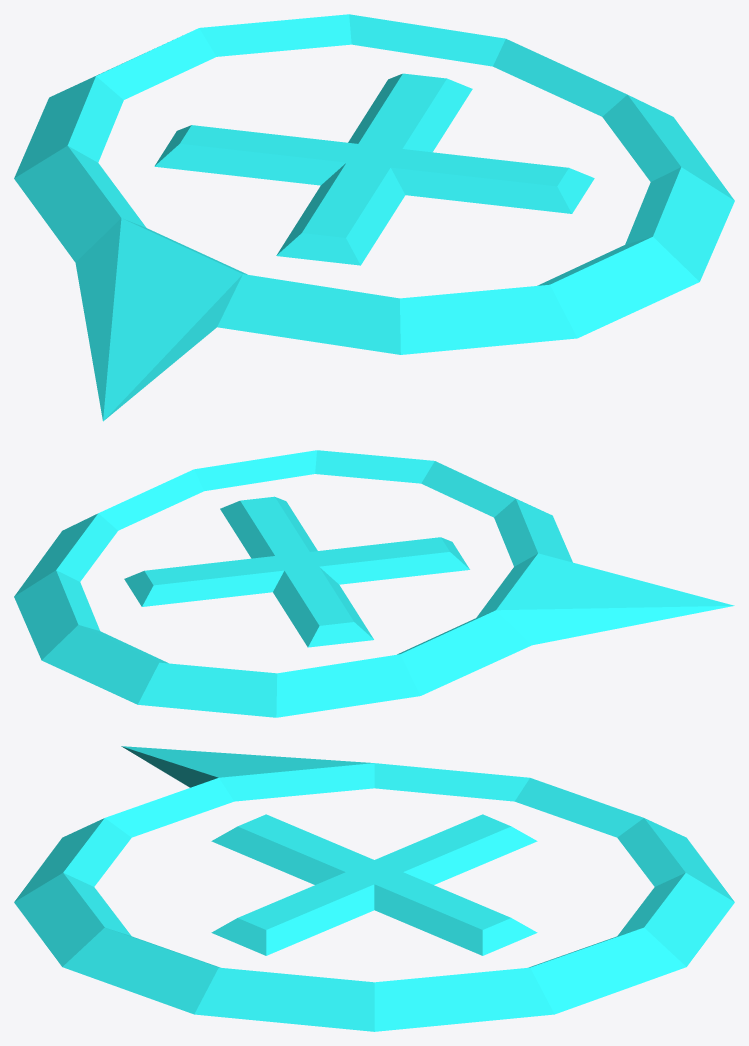
The model's file is Uciszenie.fbx.
3 renders of one model, top to bottom at view 1: azimuth 30°, elevation 25°; view 2: azimuth 150°, elevation 25°; view 3: azimuth 270°, elevation 25°, orthographic. The views are drawn at different scales.
Visible parts, largest first — view 1: Cylinder; view 2: Cylinder; view 3: Cylinder.
Part boxes in pixels (x1,y1,x2,y2): Cylinder: [14, 14, 734, 421]; Cylinder: [14, 450, 734, 717]; Cylinder: [14, 746, 734, 1031].
Bounding box in the file's own units: 462 × 37.27 × 456.
